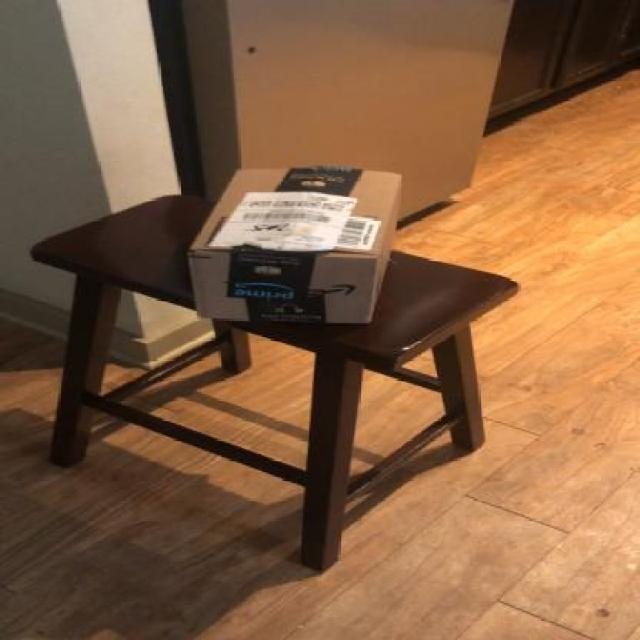cardboxes: (190, 163, 404, 331)
